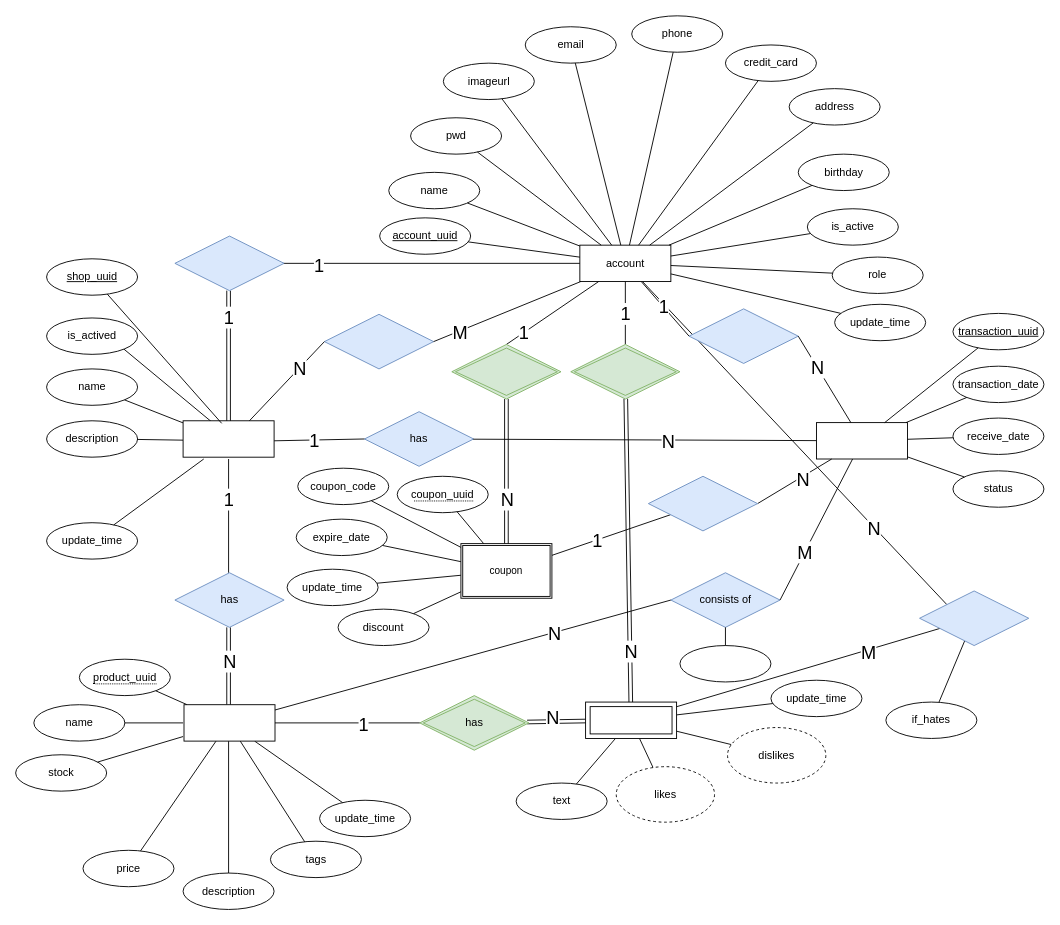
Image size: 1060x925. Some labels were removed from this diagram. Each missing label, with the centre of its shape:
"comment" goes at (x=631, y=719).
"create" goes at (x=229, y=263).
"include" goes at (x=702, y=503).
"is subscribed to" goes at (x=379, y=341).
"product" goes at (x=229, y=722).
"quantity" goes at (x=725, y=663).
"react" goes at (x=974, y=618).
"release" goes at (x=506, y=371).
"request" goes at (x=743, y=335).
"shop" goes at (x=228, y=438).
"transaction" goes at (x=861, y=440).
"write" goes at (x=625, y=371).
